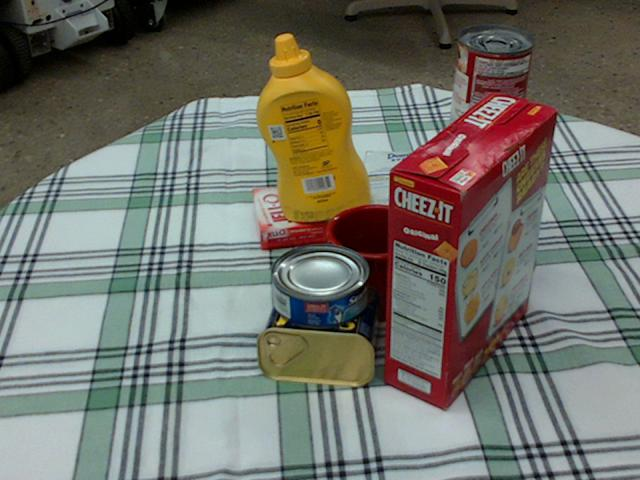cracker_box: (384, 93, 558, 409)
gelatin_box: (252, 185, 327, 251)
master_chef_can: (435, 114, 552, 286)
mug: (326, 206, 449, 323)
mustard_bottle: (255, 35, 369, 221)
potted_meat_can: (259, 277, 385, 384)
sugar_box: (345, 149, 440, 261)
tomato_soup_can: (448, 26, 532, 156)
tuna_fish_can: (271, 244, 369, 328)
